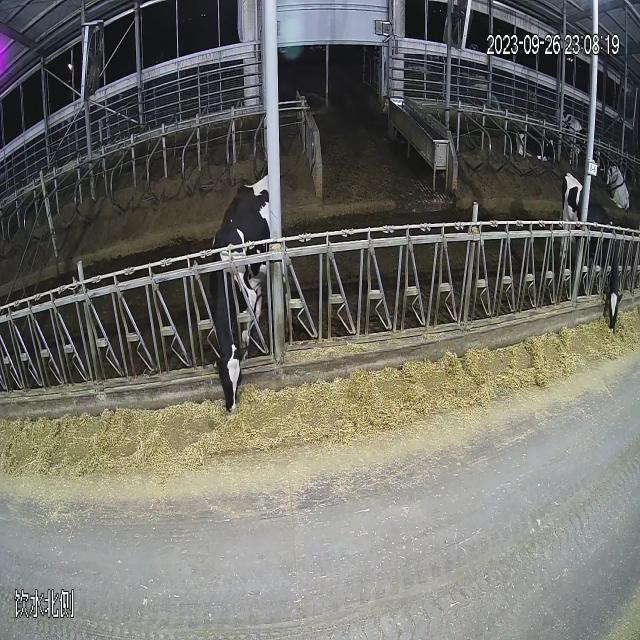feeding: (203, 148, 314, 442), (554, 163, 628, 357)
